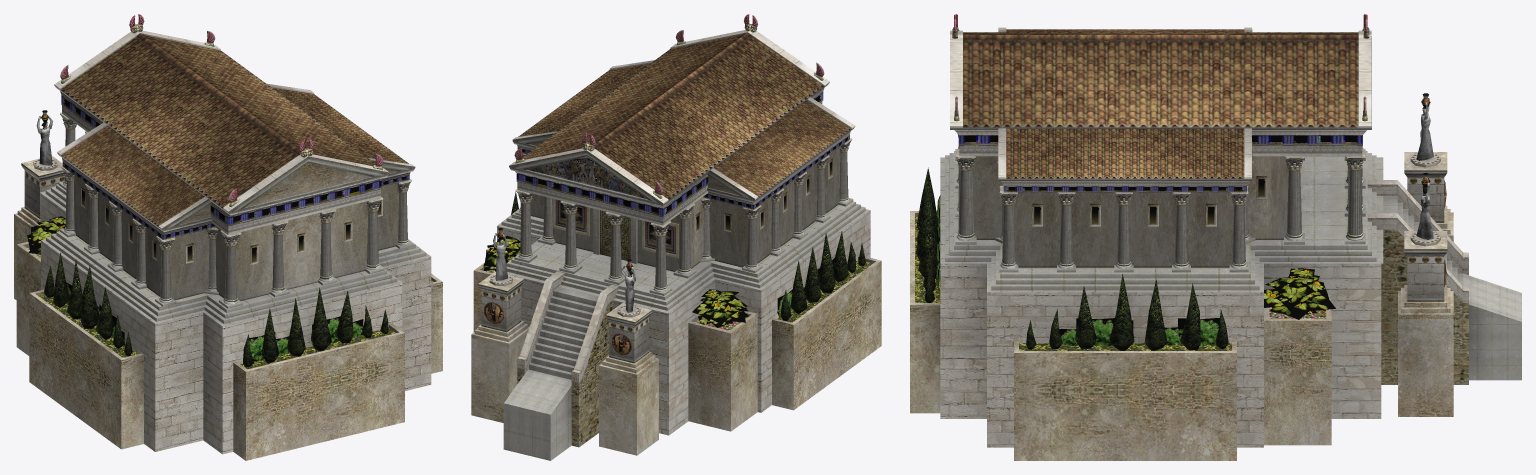
Rendered from library.glb.
3 views of the same model, side by side, from view 1: azimuth 30°, elevation 25°; view 2: azimuth 150°, elevation 25°; view 3: azimuth 270°, elevation 25° (orthographic). The views are drawn at different scales.
Visible parts, largest first — view 1: library_part0, library_part5, library_part6, library_part4, library_part3, library_part2, library_part1; view 2: library_part0, library_part5, library_part6, library_part4, library_part1, library_part2, library_part3; view 3: library_part0, library_part5, library_part6, library_part4, library_part3, library_part2, library_part1.
Boxes of the visible parts, left/top/right/bottom form: library_part0: left=14, top=30, right=442, bottom=460; library_part5: left=60, top=35, right=408, bottom=227; library_part6: left=40, top=181, right=430, bottom=326; library_part4: left=36, top=14, right=407, bottom=300; library_part3: left=43, top=253, right=388, bottom=367; library_part2: left=27, top=216, right=433, bottom=369; library_part1: left=60, top=112, right=411, bottom=250; library_part0: left=471, top=30, right=881, bottom=455; library_part5: left=517, top=34, right=851, bottom=447; library_part6: left=497, top=198, right=870, bottom=460; library_part4: left=493, top=14, right=848, bottom=312; library_part1: left=484, top=138, right=852, bottom=354; library_part2: left=483, top=235, right=872, bottom=330; library_part3: left=511, top=191, right=865, bottom=320; library_part0: left=910, top=27, right=1468, bottom=460; library_part5: left=963, top=29, right=1468, bottom=384; library_part6: left=940, top=149, right=1521, bottom=380; library_part4: left=952, top=14, right=1433, bottom=264; library_part3: left=916, top=167, right=1228, bottom=350; library_part2: left=915, top=195, right=1335, bottom=350; library_part1: left=955, top=134, right=1446, bottom=286.
Bounding box in the file's own units: 3.31 × 2.85 × 4.5.
7 materials, 7 textured.
